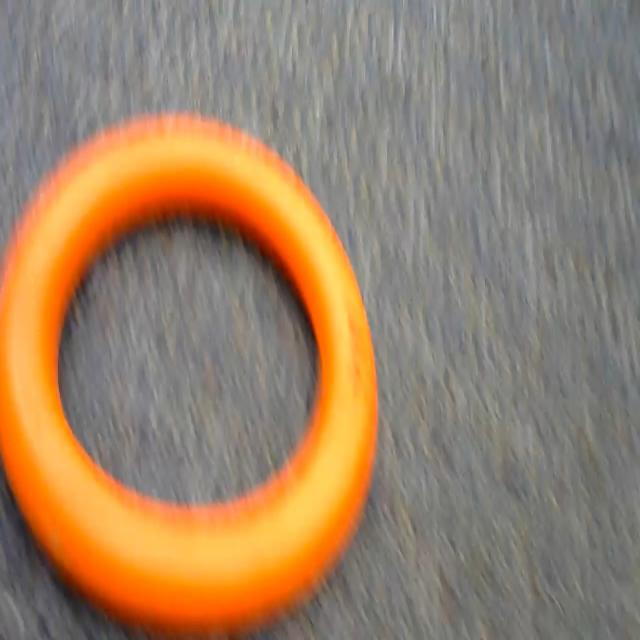note: (0, 93, 393, 640)
